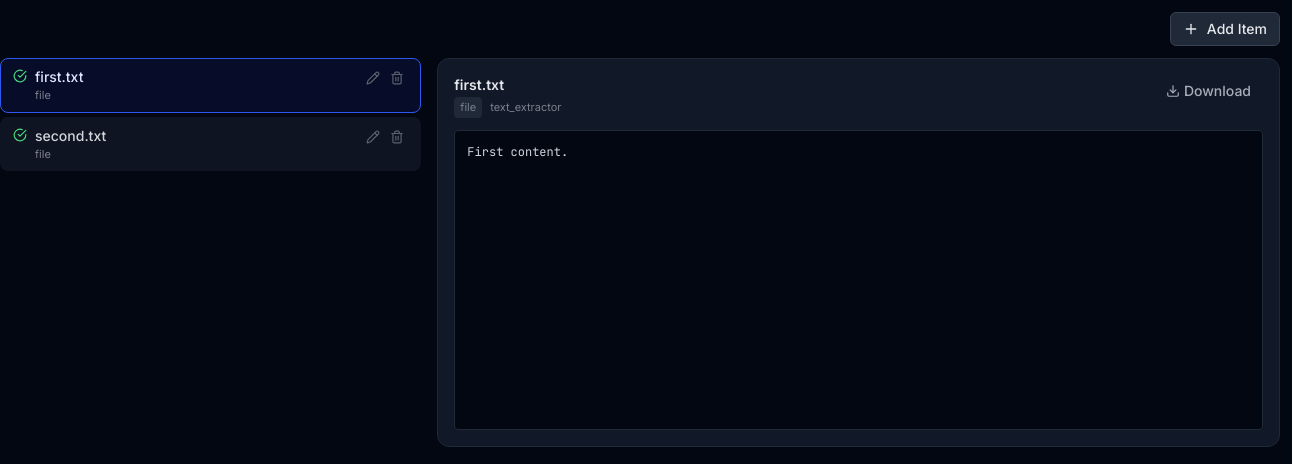
Test case: EvidenceTab — sidebar selection + content rendering › switches the content card when a different sidebar item is clicked
Expected: the text "First content." is shown, x1=454 y1=130 x2=1263 y2=430
Click the text "second.txt" at (71, 135), box x1=35 y1=126 x2=106 y2=144
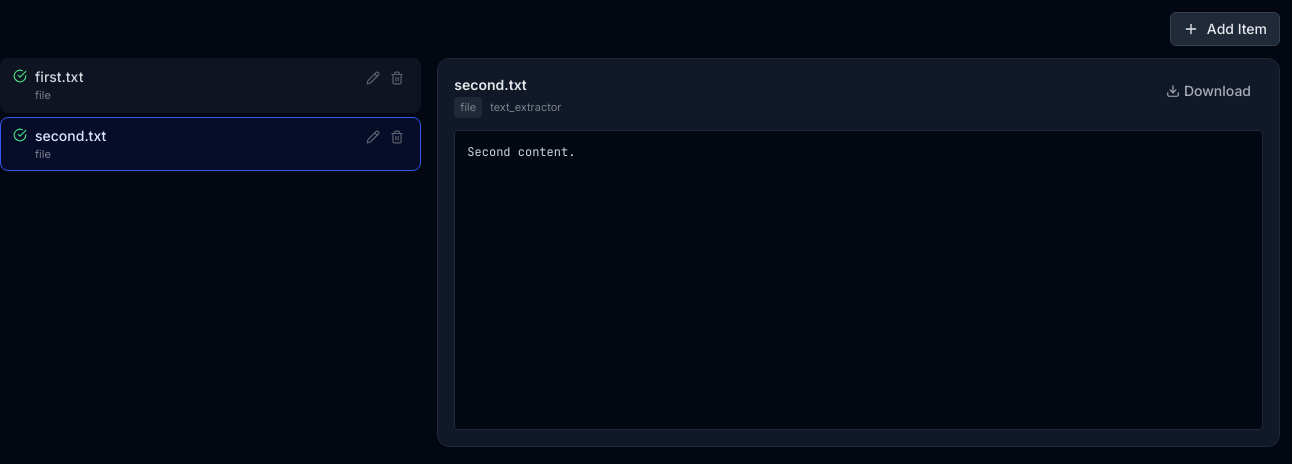
Result: the text "Second content." is shown at x1=454 y1=130 x2=1263 y2=430
Result: the text "First content." is gone
